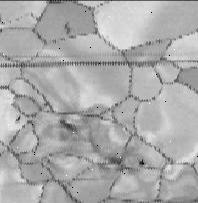good_void: (57, 118, 79, 131), (64, 22, 71, 35), (15, 115, 21, 122), (139, 158, 145, 165)
